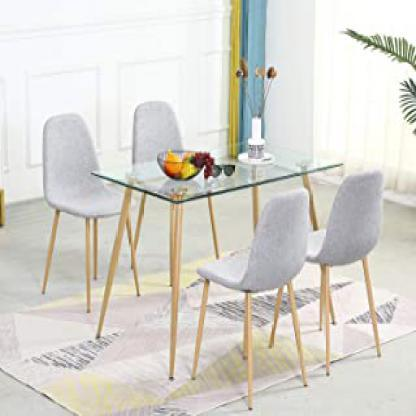chair: (182, 185, 319, 415), (29, 113, 140, 318), (311, 167, 399, 373), (124, 95, 226, 269)
table: (92, 132, 327, 390)
